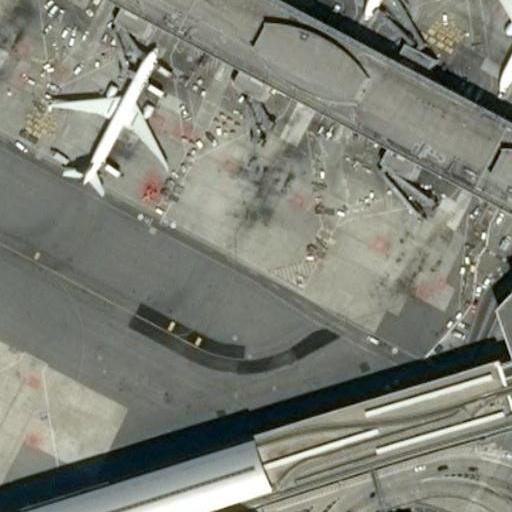Aircraft: (49, 40, 173, 194), (476, 0, 512, 94), (344, 0, 466, 18)
